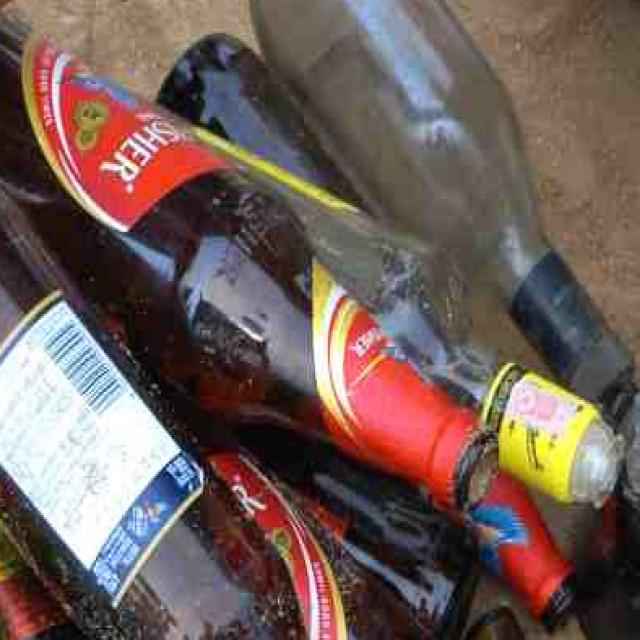thuy_tinh: (0, 11, 499, 510), (195, 130, 627, 506), (1, 189, 301, 640), (254, 2, 549, 354), (159, 33, 361, 204), (312, 443, 476, 639)
